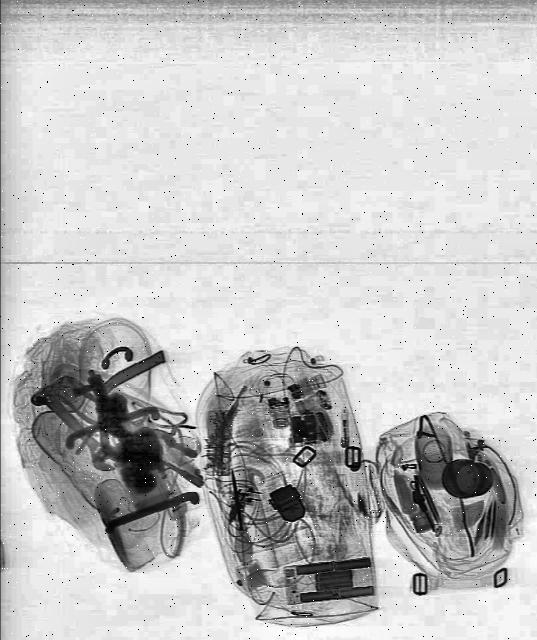Wrench: (33, 382, 125, 480)
